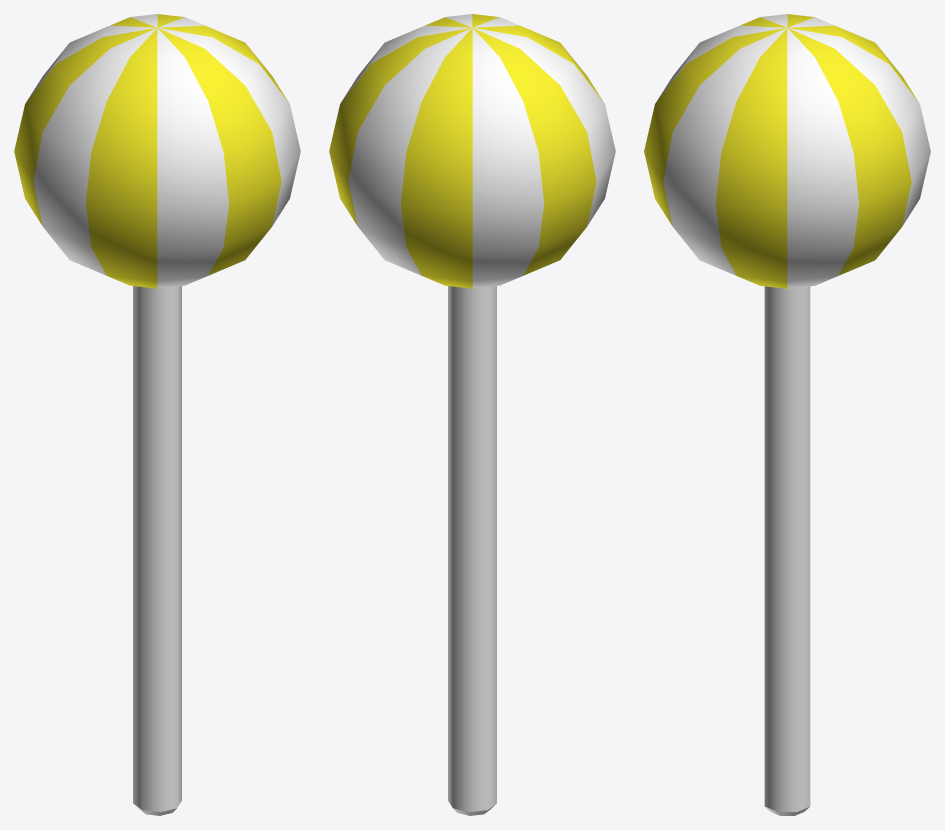
Rendered from Candy_23.fbx.
The picture shows the model from 3 angles, left to right: view 1: azimuth 30°, elevation 25°; view 2: azimuth 150°, elevation 25°; view 3: azimuth 270°, elevation 25°; orthographic projection.
Visible parts, largest first — view 1: Candy_23; view 2: Candy_23; view 3: Candy_23.
Boxes of the visible parts, left/top/right/bottom form: Candy_23: left=14, top=14, right=300, bottom=815; Candy_23: left=329, top=14, right=615, bottom=815; Candy_23: left=644, top=14, right=930, bottom=815.
Size of the model in its own units: 0.8726 by 2.62 by 0.8726.
